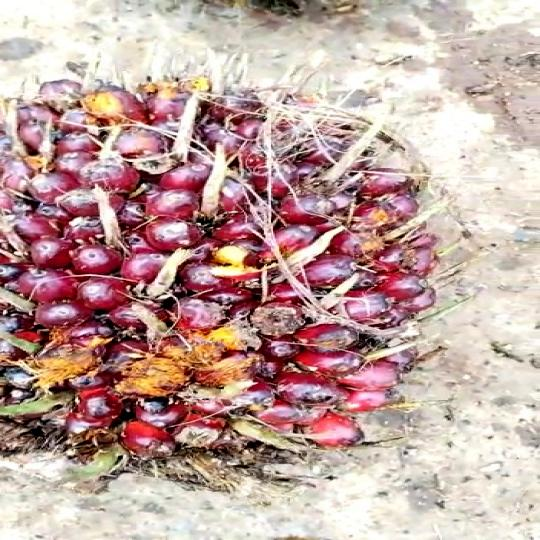masak: (0, 46, 459, 507)
